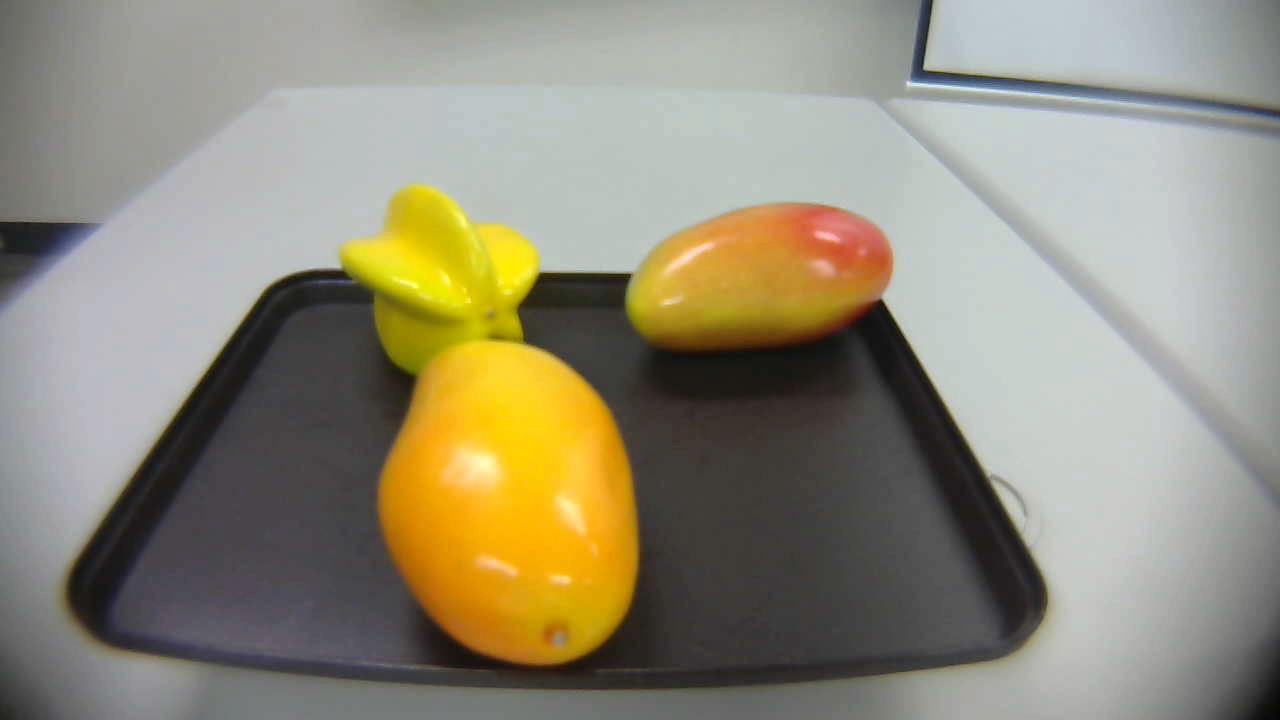red mango: (615, 196, 897, 363)
star fruit: (320, 173, 566, 368)
yellow mango: (363, 345, 651, 689)
